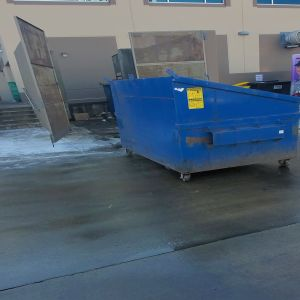Dumpster: (110, 77, 300, 181)
